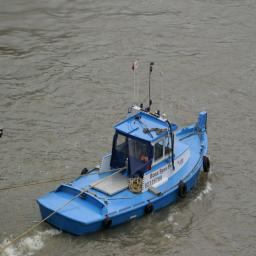tugboat: (36, 100, 212, 241)
